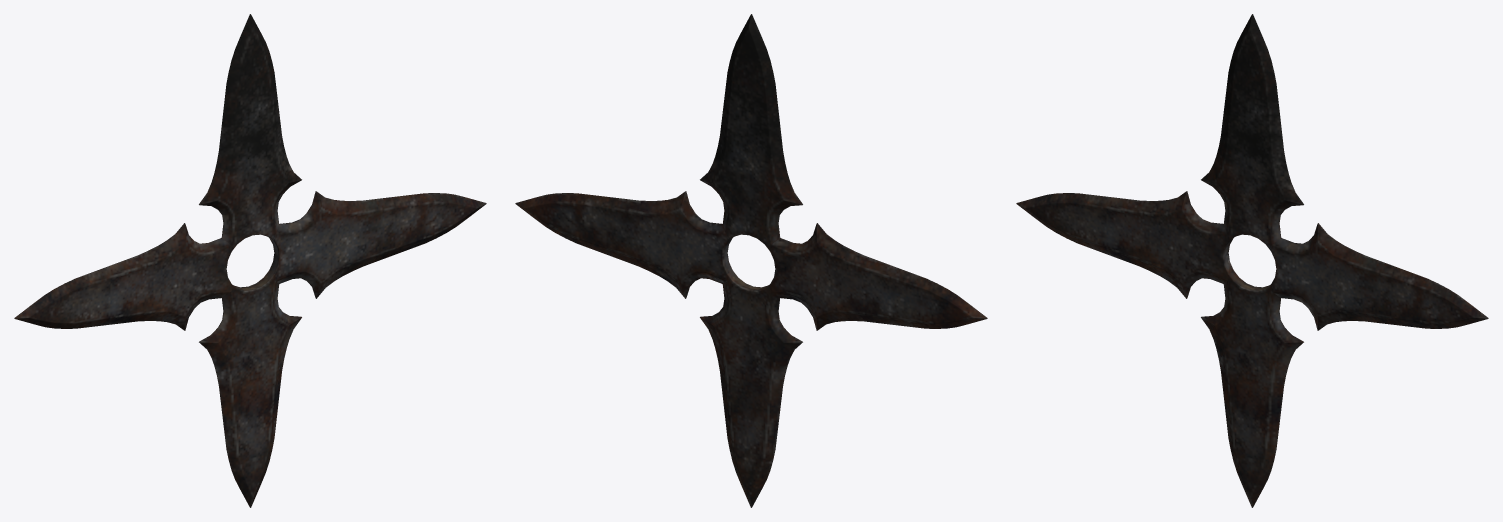
The model's file is Shuriken.fbx.
The picture shows the model from 3 angles, left to right: view 1: azimuth 30°, elevation 25°; view 2: azimuth 150°, elevation 25°; view 3: azimuth 330°, elevation 25°; orthographic projection.
Visible parts, largest first — view 1: Shuriken; view 2: Shuriken; view 3: Shuriken.
Part boxes in pixels (x1,y1,x2,y2): Shuriken: [14, 14, 486, 507]; Shuriken: [515, 14, 987, 507]; Shuriken: [1016, 14, 1488, 507].
Size of the model in its own units: 20.11 by 20.11 by 0.4338.
